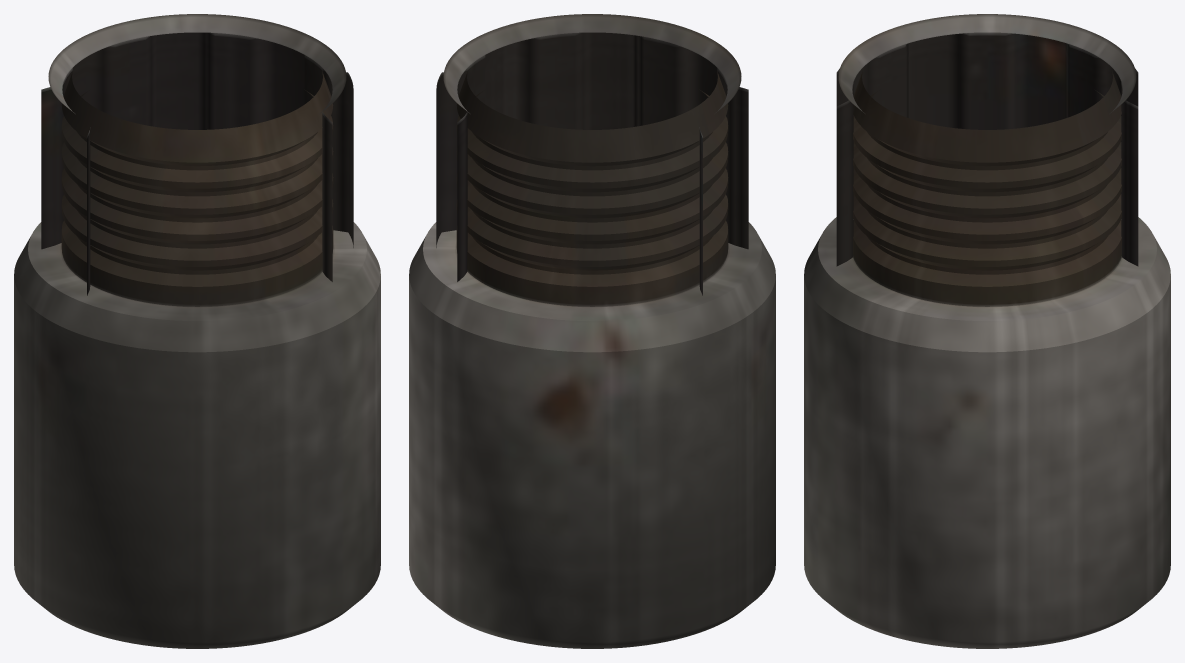
The model's file is SM_DriverSub_3po.glb.
3 views of the same model, side by side, from view 1: azimuth 30°, elevation 25°; view 2: azimuth 150°, elevation 25°; view 3: azimuth 270°, elevation 25° (orthographic).
Visible parts, largest first — view 1: DriverSub_3po; view 2: DriverSub_3po; view 3: DriverSub_3po.
Part boxes in pixels (x1,y1,x2,y2): DriverSub_3po: (14,14,380,648); DriverSub_3po: (409,14,775,648); DriverSub_3po: (804,14,1170,648).
Size of the model in its own units: 0.079 by 0.1189 by 0.079.
1 material, 1 textured.
